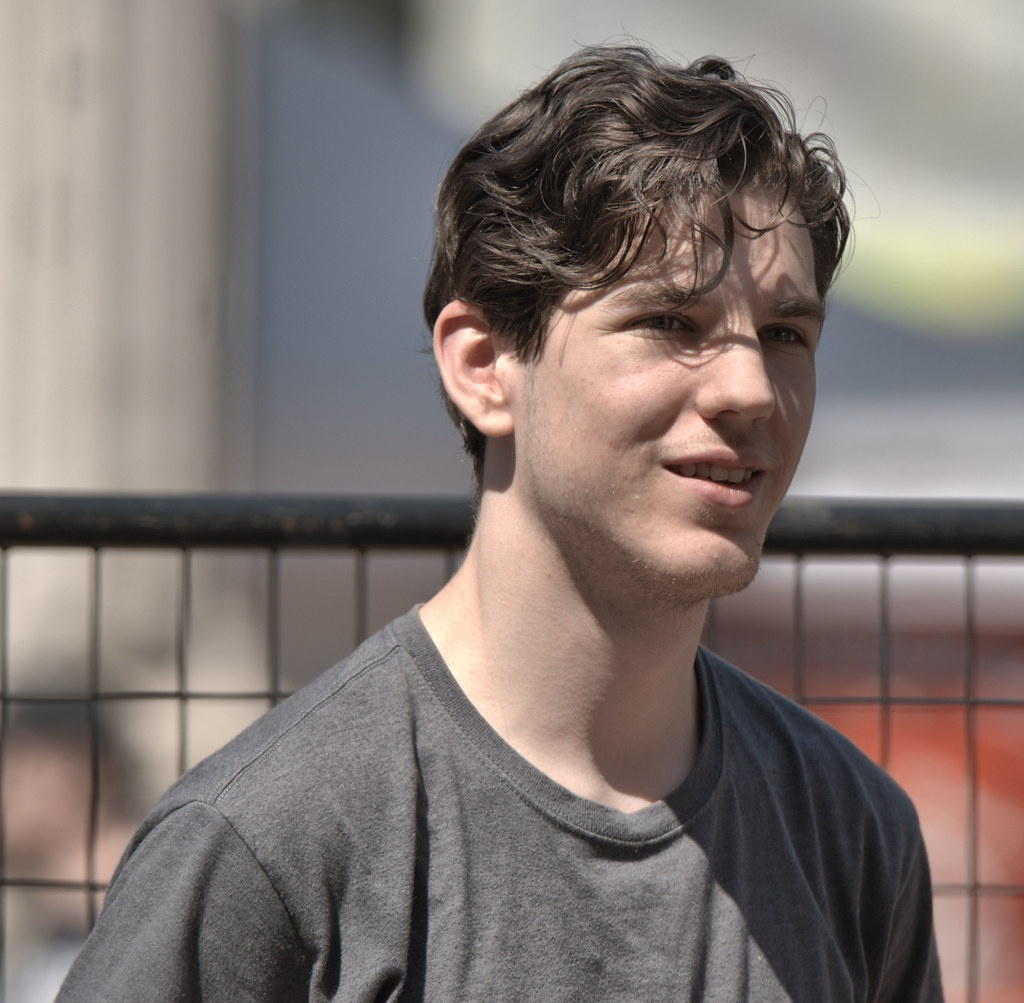without_mask: (435, 139, 835, 606)
